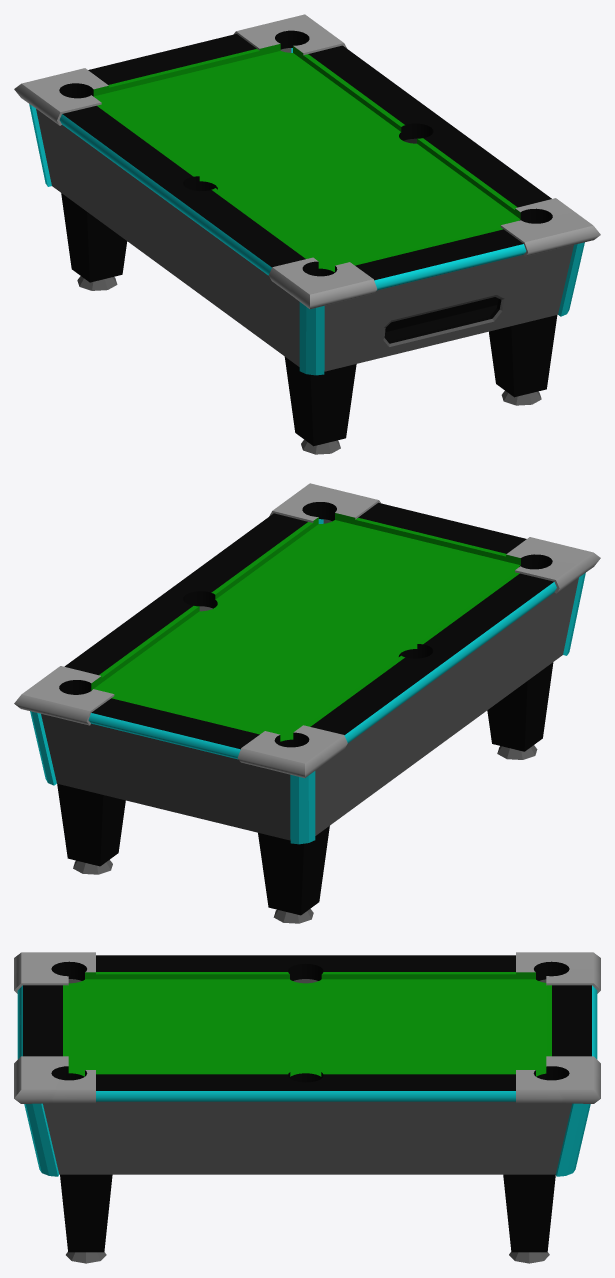
The model's file is SM_pooltable.fbx.
The picture shows the model from 3 angles, top to bottom: view 1: azimuth 30°, elevation 25°; view 2: azimuth 150°, elevation 25°; view 3: azimuth 270°, elevation 25°; orthographic projection.
Parts seen in each view (by area): view 1: polySurface6, polySurface7, pCube36, pCube37, pCube35; view 2: polySurface6, polySurface7, pCube35, pCube34, pCube36; view 3: polySurface6, polySurface7, pCube34, pCube37.
Part boxes in pixels (x1,y1,x2,y2): polySurface6: (14, 14, 600, 309); polySurface7: (29, 48, 584, 375); pCube36: (284, 357, 356, 446); pCube37: (489, 315, 557, 397); pCube35: (61, 193, 127, 282); polySurface6: (14, 483, 600, 778); polySurface7: (30, 519, 585, 844); pCube35: (258, 826, 329, 915); pCube34: (57, 783, 125, 866); pCube36: (487, 662, 553, 751); polySurface6: (14, 952, 600, 1103); polySurface7: (24, 979, 590, 1176); pCube34: (503, 1174, 555, 1252); pCube37: (60, 1174, 112, 1252).
Size of the model in its own units: 29.51 by 18.02 by 52.01.
